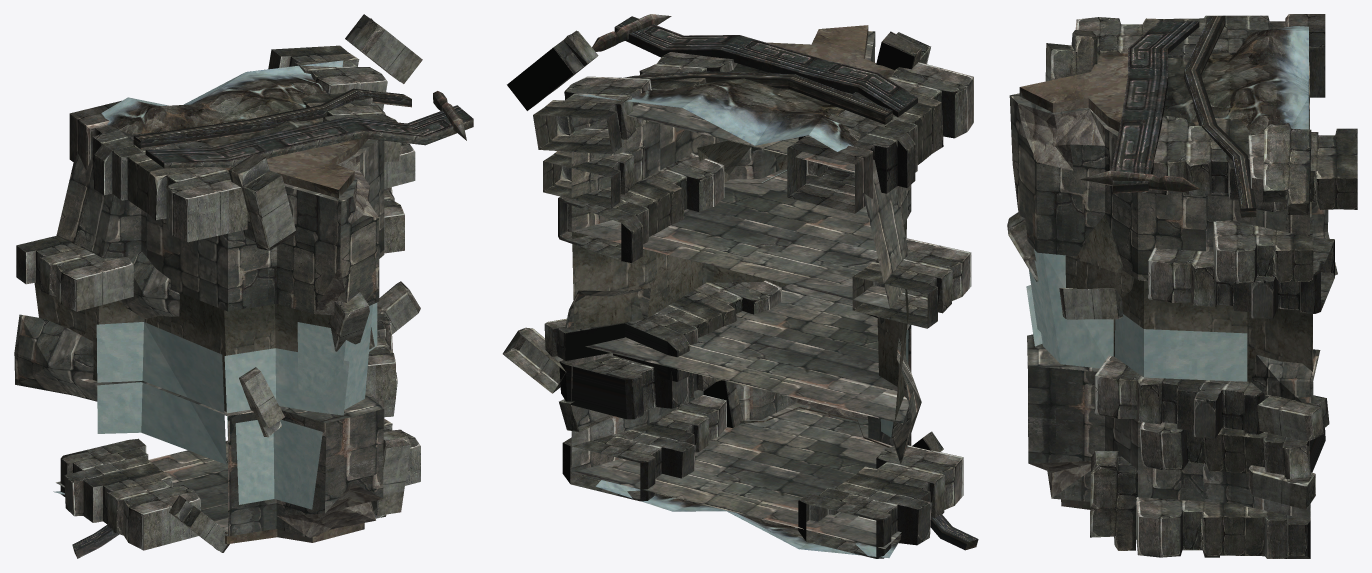
The model's file is huodong_fuben_421_feixu03_3.obj.
3 renders of one model, left to right at view 1: azimuth 30°, elevation 25°; view 2: azimuth 150°, elevation 25°; view 3: azimuth 270°, elevation 25°, orthographic. The views are drawn at different scales.
Parts seen in each view (by area): view 1: huodong_fuben_421_feixu03_3; view 2: huodong_fuben_421_feixu03_3; view 3: huodong_fuben_421_feixu03_3.
Boxes of the visible parts, x1=… form: huodong_fuben_421_feixu03_3: x1=14, y1=14, x2=473, y2=558; huodong_fuben_421_feixu03_3: x1=502, y1=14, x2=978, y2=558; huodong_fuben_421_feixu03_3: x1=1007, y1=14, x2=1357, y2=558.
Bounding box in the file's own units: 260 × 268 × 184.
9 materials, 9 textured.
